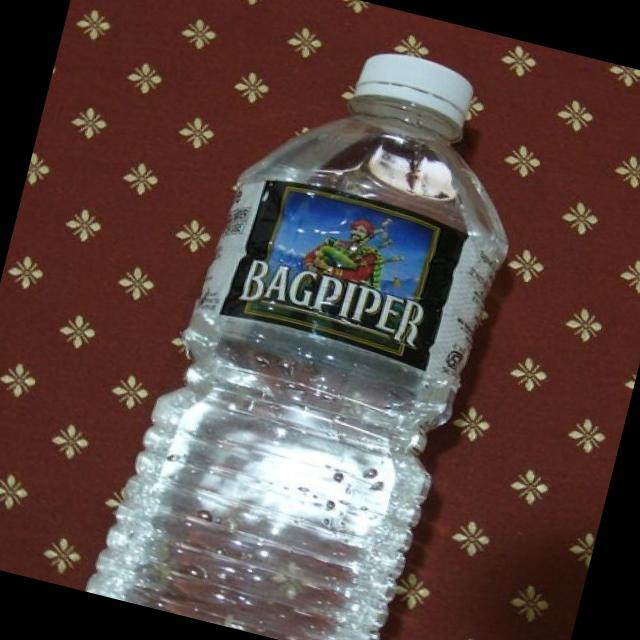plastic_bottle: (83, 10, 548, 640)
